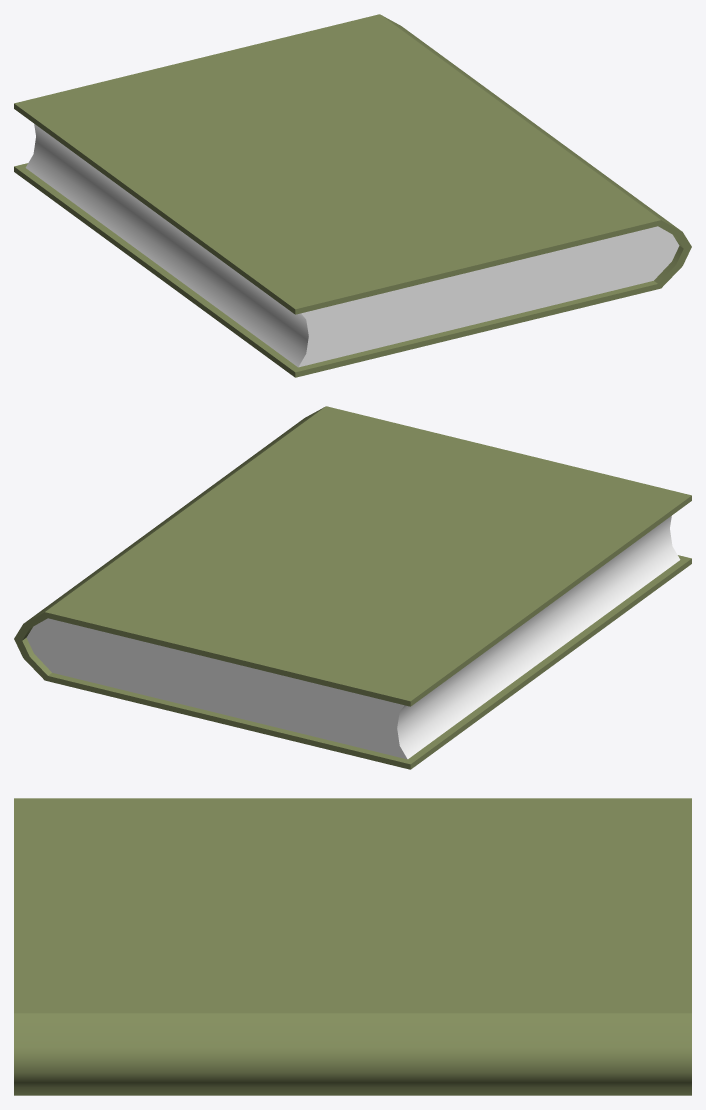
The model's file is book5.fbx.
The picture shows the model from 3 angles, top to bottom: view 1: azimuth 30°, elevation 25°; view 2: azimuth 150°, elevation 25°; view 3: azimuth 270°, elevation 25°; orthographic projection. The views are drawn at different scales.
Parts seen in each view (by area): view 1: book5; view 2: book5; view 3: book5.
Boxes of the visible parts, x1,y1,x2,y2 form: book5: (14, 14, 691, 377); book5: (14, 406, 691, 769); book5: (14, 798, 691, 1095).
Bounding box in the file's own units: 22.04 × 3.64 × 27.08.
